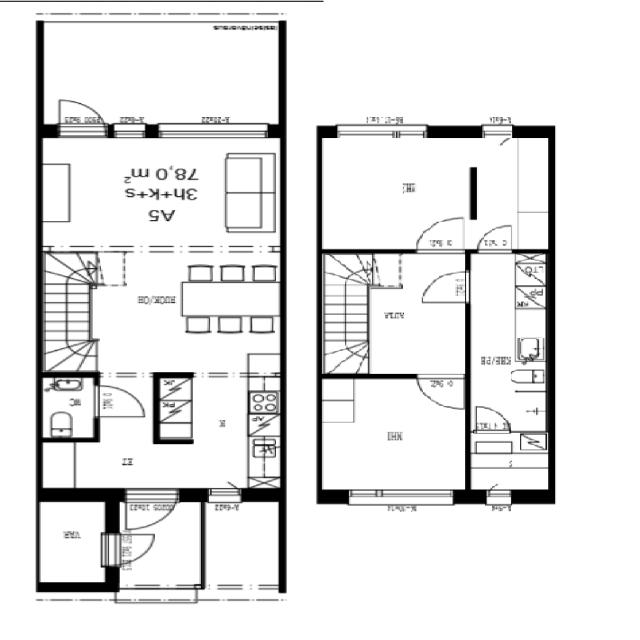door: (38, 498, 110, 584), (407, 212, 472, 254), (412, 267, 475, 309), (85, 382, 147, 422), (121, 489, 179, 531), (51, 95, 110, 135), (412, 371, 468, 413), (107, 532, 159, 566), (472, 220, 518, 253), (467, 404, 513, 434), (479, 120, 519, 154)
window: (325, 119, 438, 145), (152, 121, 273, 143), (336, 485, 460, 506), (106, 120, 153, 139), (203, 484, 245, 504), (484, 490, 514, 504)
zone: (31, 252, 286, 377), (38, 132, 282, 248), (319, 133, 472, 250), (128, 373, 278, 491), (318, 376, 467, 494), (468, 248, 552, 436), (202, 499, 282, 591), (38, 498, 108, 586), (38, 375, 98, 444)
